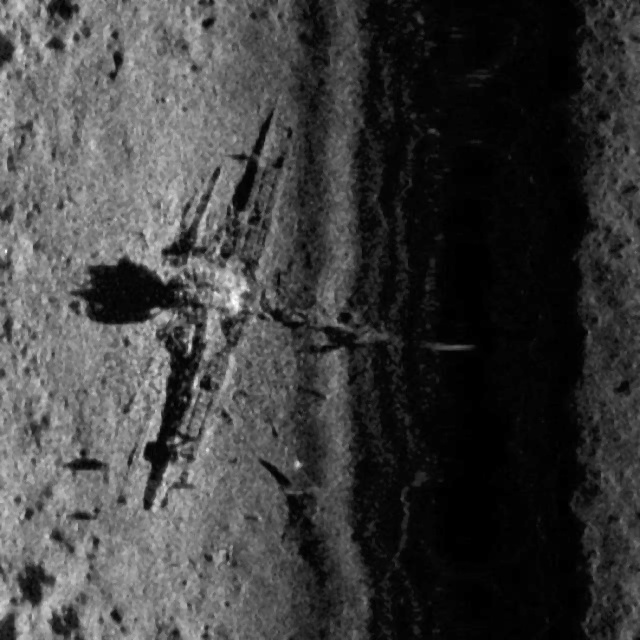Ship: (135, 90, 310, 523)
